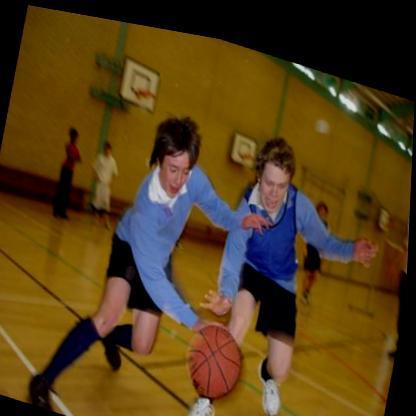basketball: (182, 307, 249, 395)
